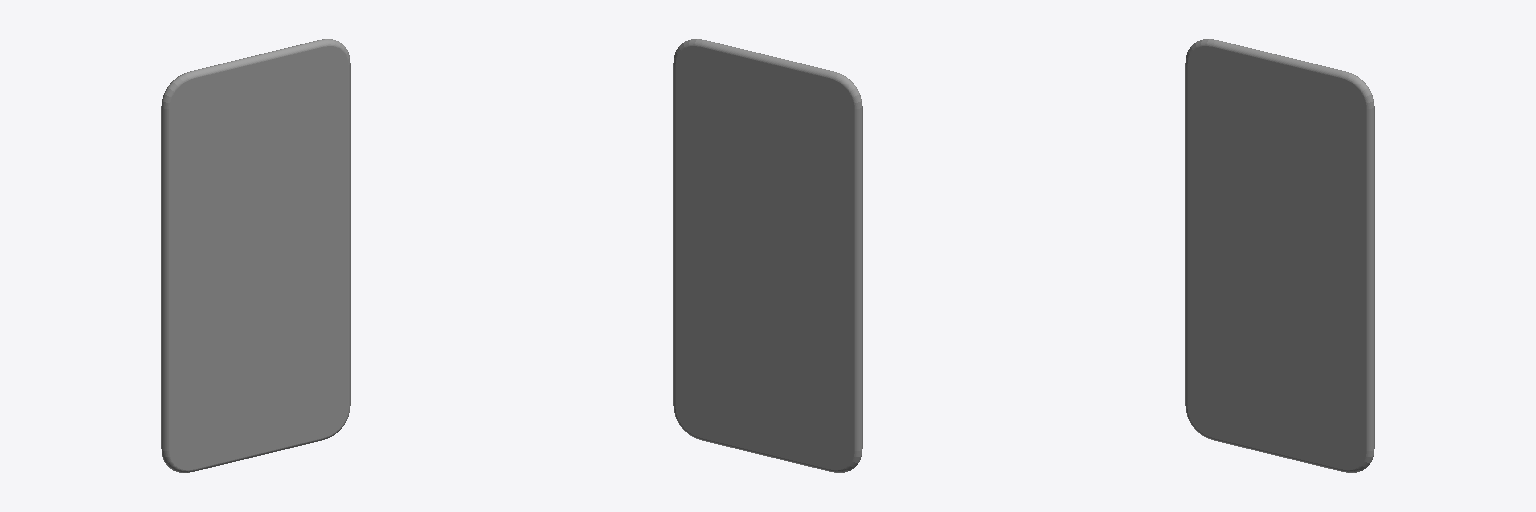
The model's file is iphone8.obj.
The picture shows the model from 3 angles: view 1: azimuth 30°, elevation 25°; view 2: azimuth 150°, elevation 25°; view 3: azimuth 330°, elevation 25°; orthographic projection.
Parts seen in each view (by area): view 1: Phone_Plane; view 2: Phone_Plane; view 3: Phone_Plane.
Part boxes in pixels (bbox=[...]): Phone_Plane: bbox=[161, 39, 350, 472]; Phone_Plane: bbox=[673, 39, 862, 472]; Phone_Plane: bbox=[1185, 39, 1374, 472].
Size of the model in its own units: 0.5936 by 1.21 by 0.0322.